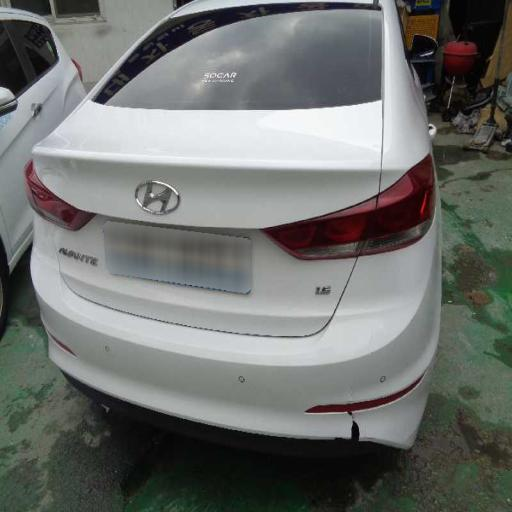broken: (301, 357, 417, 476)
